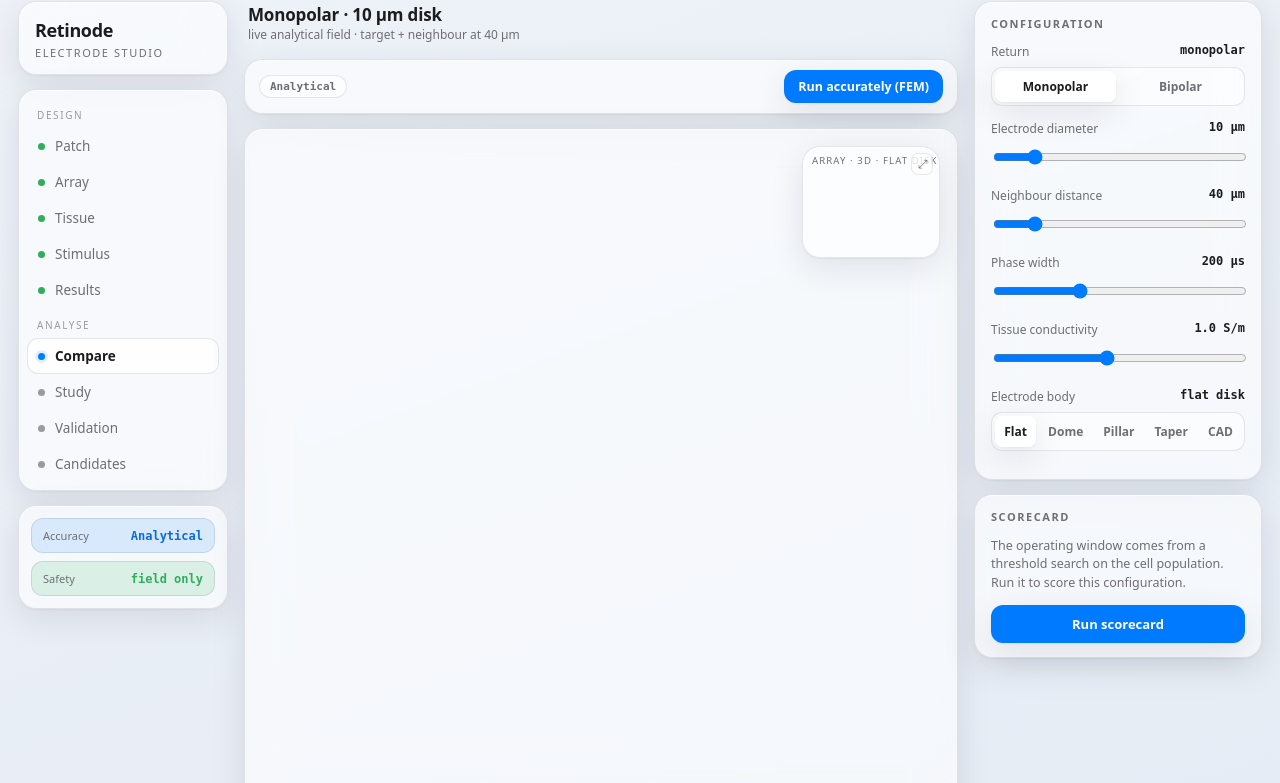
Test: Compare › shows the FEM field once solved for a 3D body (holes and all)
What coordinates should you click on to do the following:
click the tab "Dome"
I would click on:
 (1066, 432)
Its box is x1=1040 y1=416 x2=1091 y2=447.
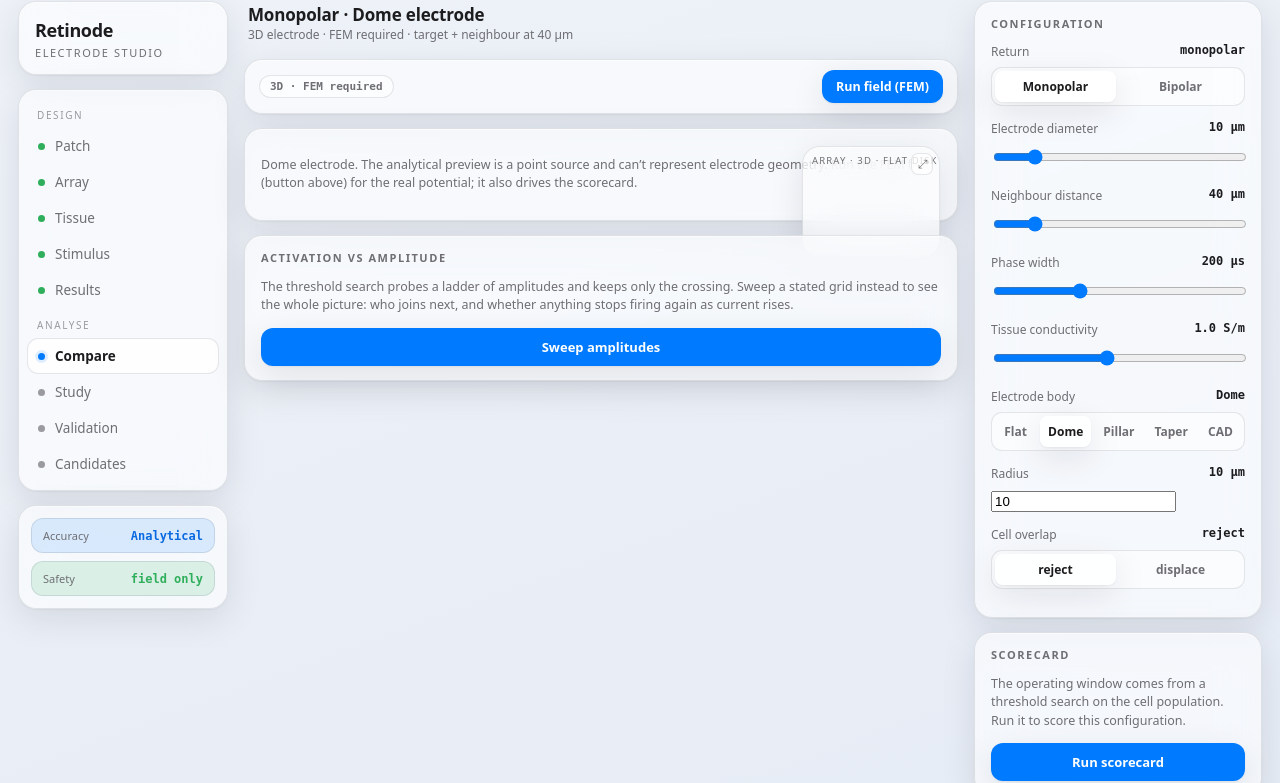
What coordinates should you click on to do the following:
click the button "Run field (FEM)"
I would click on:
 (882, 86)
Its box is x1=822 y1=70 x2=943 y2=103.
(page scrolled)
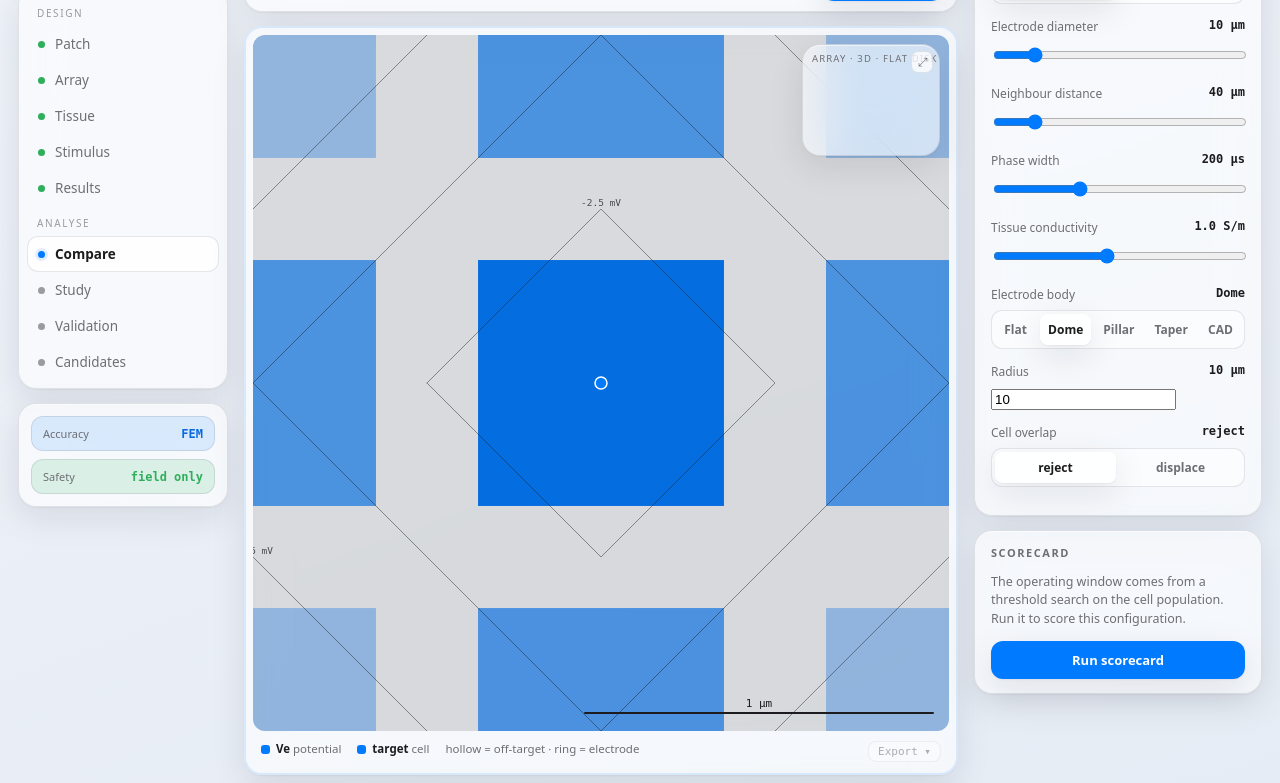
Expected: the drawing named "potential field" is shown, x1=253 y1=35 x2=949 y2=731
